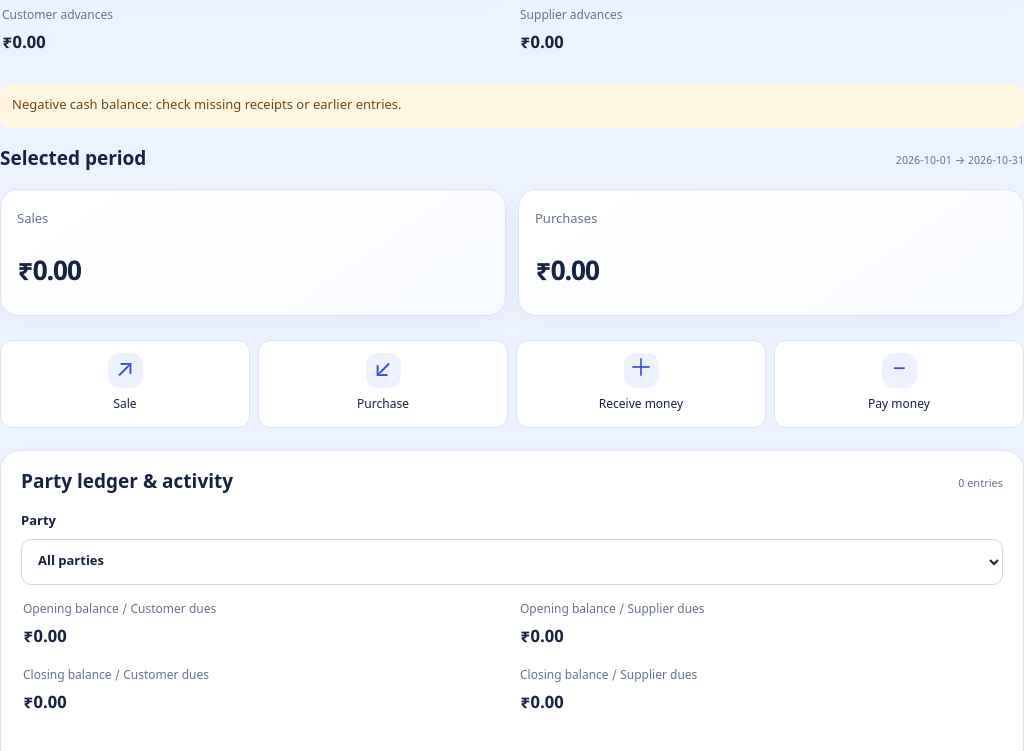
Scenario: renders empty parties, ledger, negative cash and journal mismatch without fabricated entries
(page scrolled)
Click the button "↗ Sale". click: (125, 384)
box: [0, 340, 250, 428]
(page scrolled)
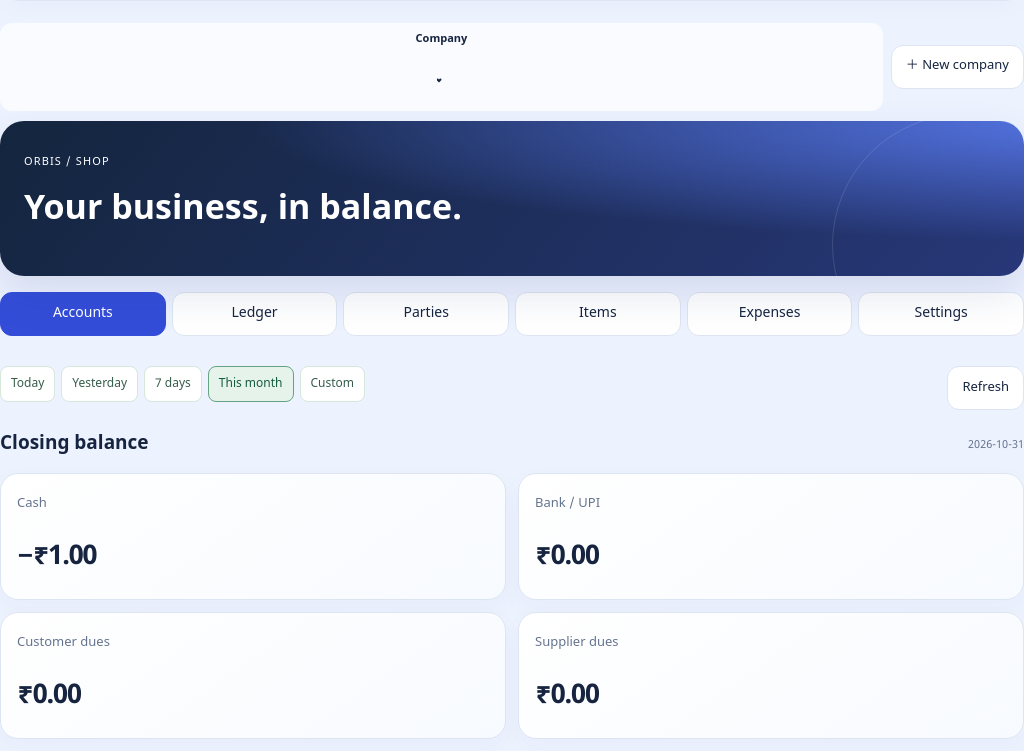
Click the button "Custom". click: (332, 384)
box: [300, 366, 365, 402]
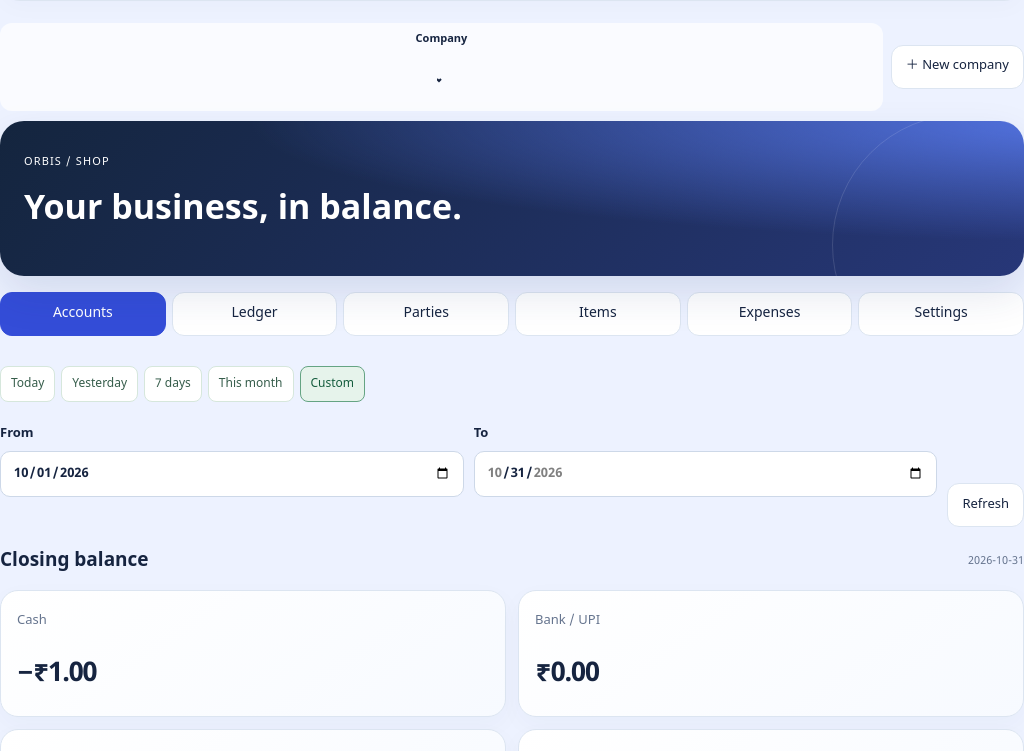
Clear the date field labelled "From". click: (232, 474)
box: [0, 451, 464, 497]
(page scrolled)
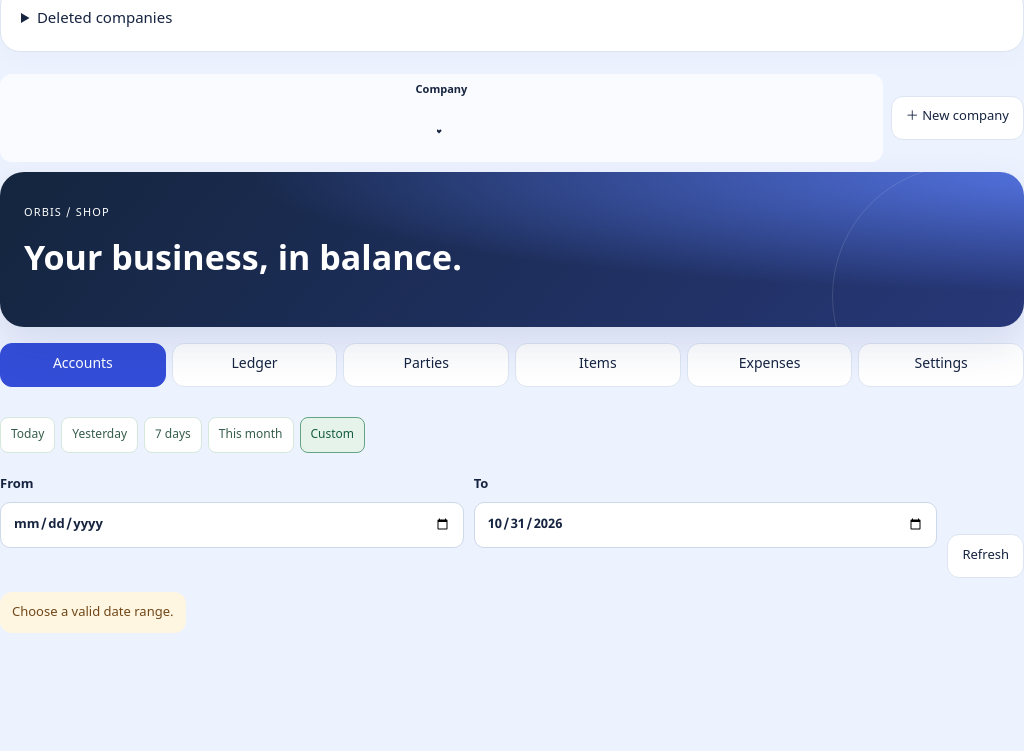
Expected: the text "Choose a valid date range." is shown, [0, 592, 186, 633]
